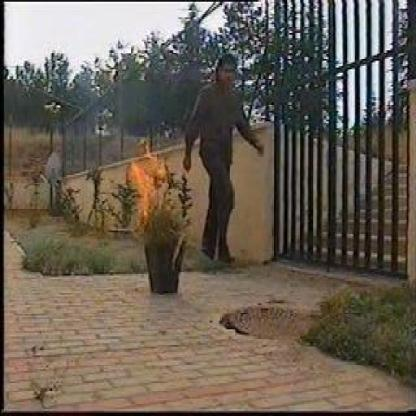foggia-v2-map80-epoch100 - v1 4323: (124, 146, 167, 221)
